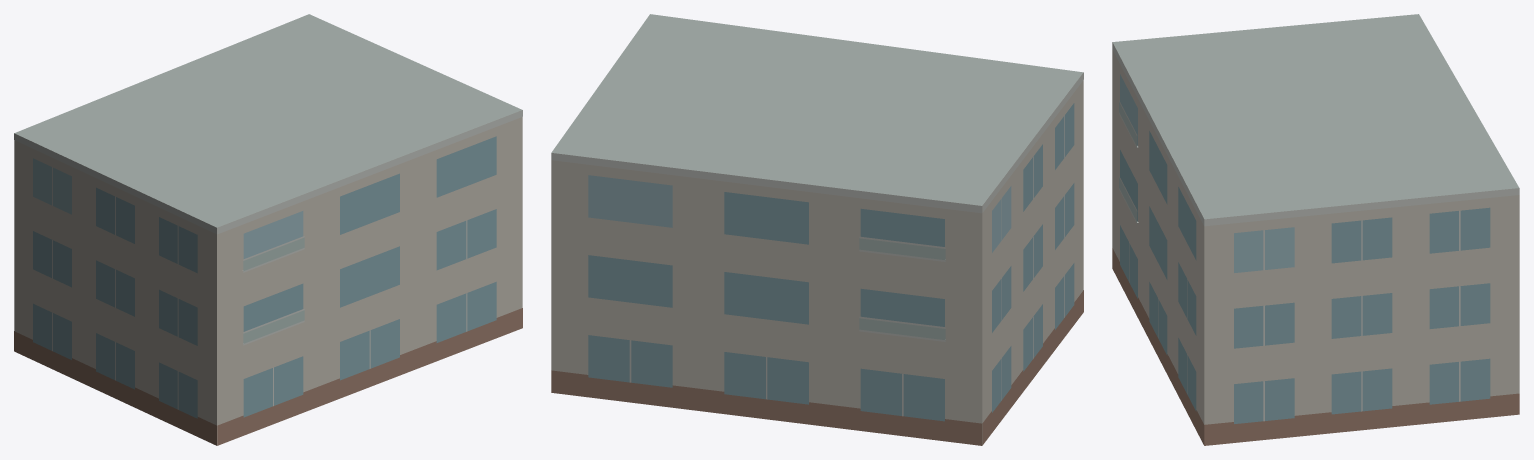
The model's file is survey-upis-32625637.glb.
The picture shows the model from 3 angles, left to right: view 1: azimuth 30°, elevation 25°; view 2: azimuth 150°, elevation 25°; view 3: azimuth 270°, elevation 25°; orthographic projection. The views are drawn at different scales.
Parts seen in each view (by area): view 1: survey-upis-32625637.tmp; view 2: survey-upis-32625637.tmp; view 3: survey-upis-32625637.tmp.
Part boxes in pixels (x1,y1,x2,y2): survey-upis-32625637.tmp: (14, 14, 522, 445); survey-upis-32625637.tmp: (551, 14, 1083, 445); survey-upis-32625637.tmp: (1112, 14, 1519, 445).
Size of the model in its own units: 15.37 by 7.9 by 12.88.
